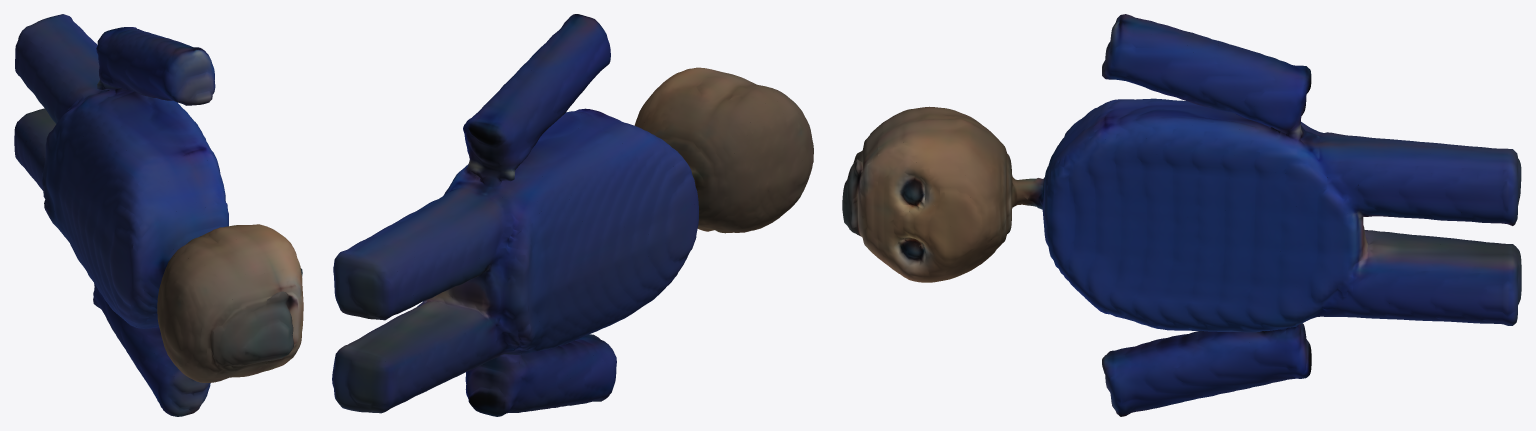
File: rico_blockout.glb
3 views of the same model, side by side, from view 1: azimuth 30°, elevation 25°; view 2: azimuth 150°, elevation 25°; view 3: azimuth 270°, elevation 25° (orthographic). The views are drawn at different scales.
Parts seen in each view (by area): view 1: rico_blockout.obj; view 2: rico_blockout.obj; view 3: rico_blockout.obj.
Part boxes in pixels (left/top/right/bottom): rico_blockout.obj: left=14, top=14, right=303, bottom=416; rico_blockout.obj: left=332, top=14, right=813, bottom=416; rico_blockout.obj: left=842, top=14, right=1521, bottom=416.
Size of the model in its own units: 0.2952 by 0.5793 by 0.8983.
Materials: 1 (1 with a texture image).
